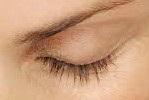close: (35, 30, 138, 86)
